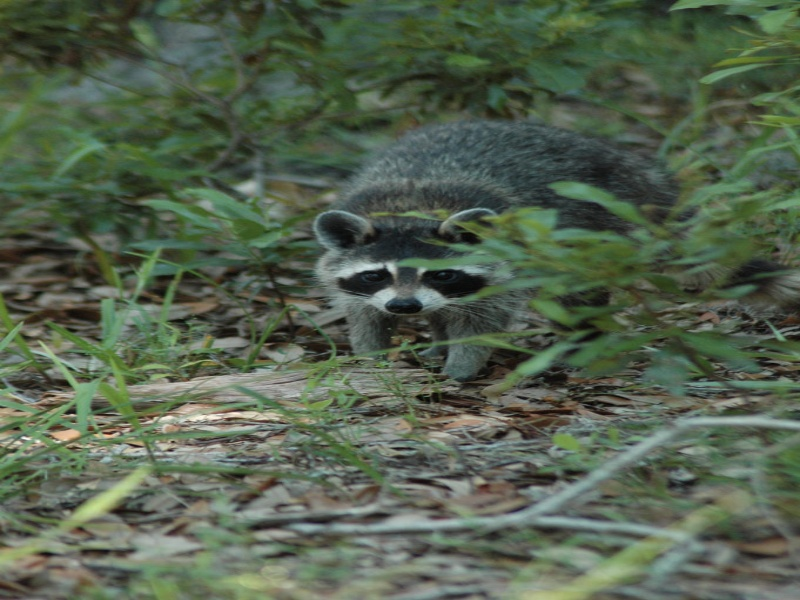raccoon: (306, 113, 683, 388)
